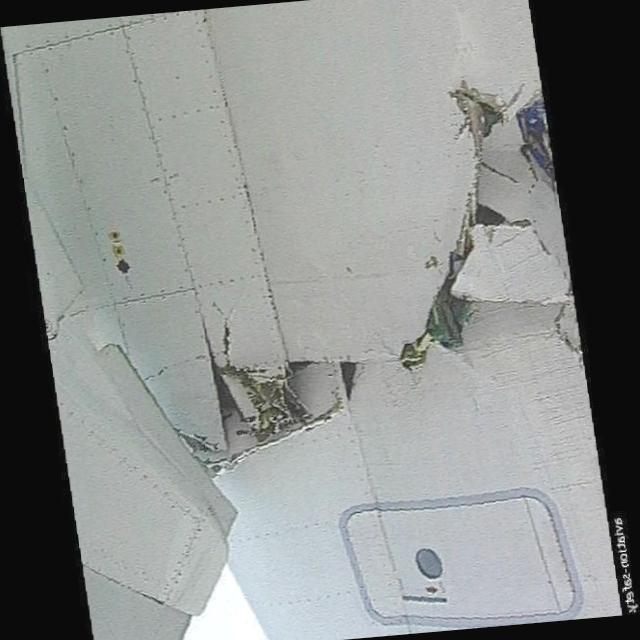crack: (140, 80, 560, 487), (399, 78, 509, 370), (212, 363, 330, 455)
